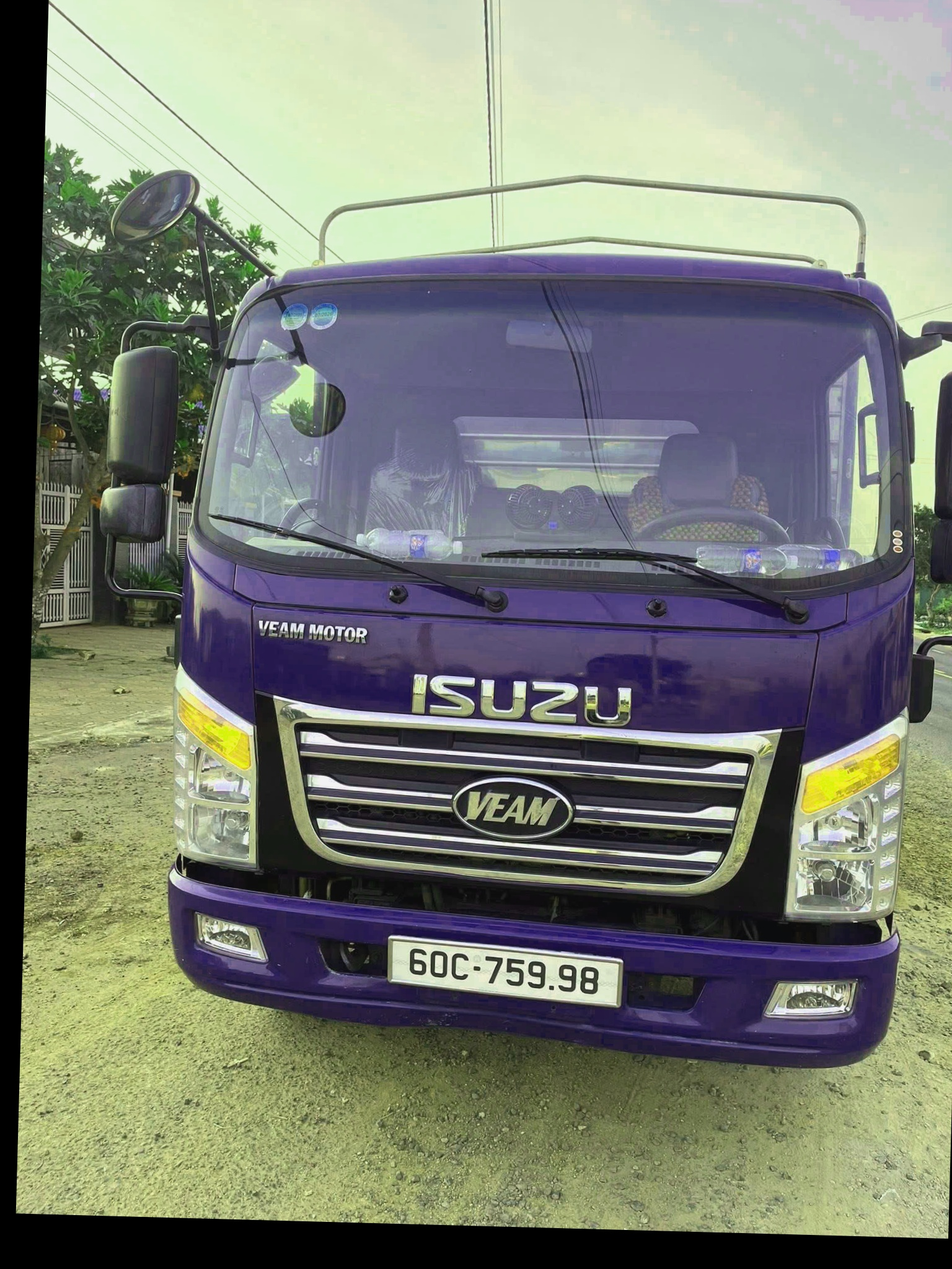Bien-so: (355, 954, 601, 1022)
